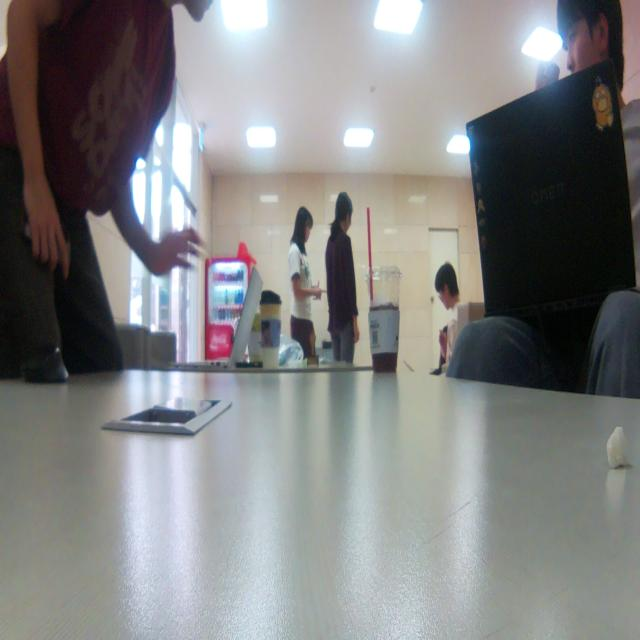target: (306, 336, 319, 366)
